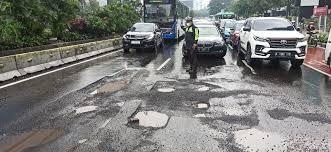Pothole: (211, 125, 287, 152), (0, 122, 68, 152), (88, 65, 137, 102), (129, 104, 173, 138), (187, 94, 212, 116), (153, 80, 178, 98), (191, 81, 212, 93)
